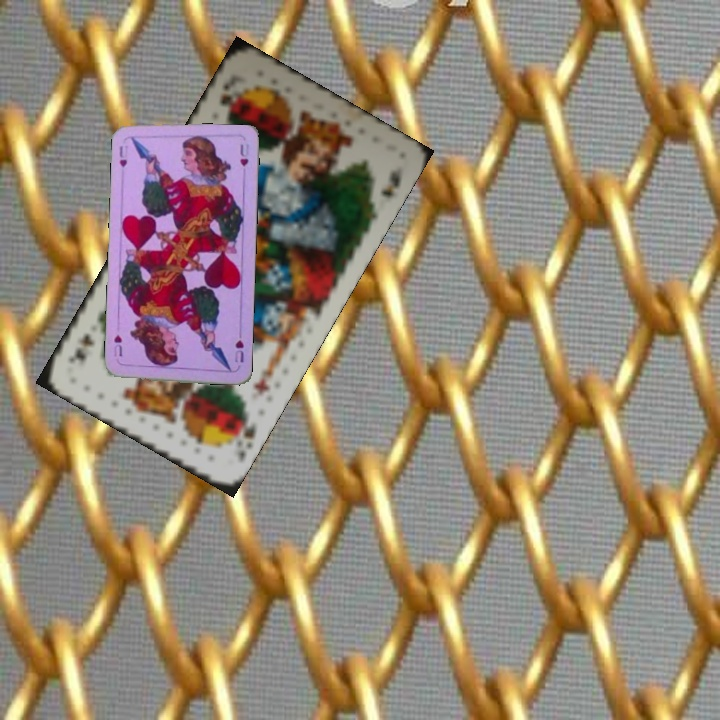HU: (231, 336, 246, 365), (115, 142, 130, 170)
SK: (215, 80, 240, 122), (235, 408, 259, 450)
